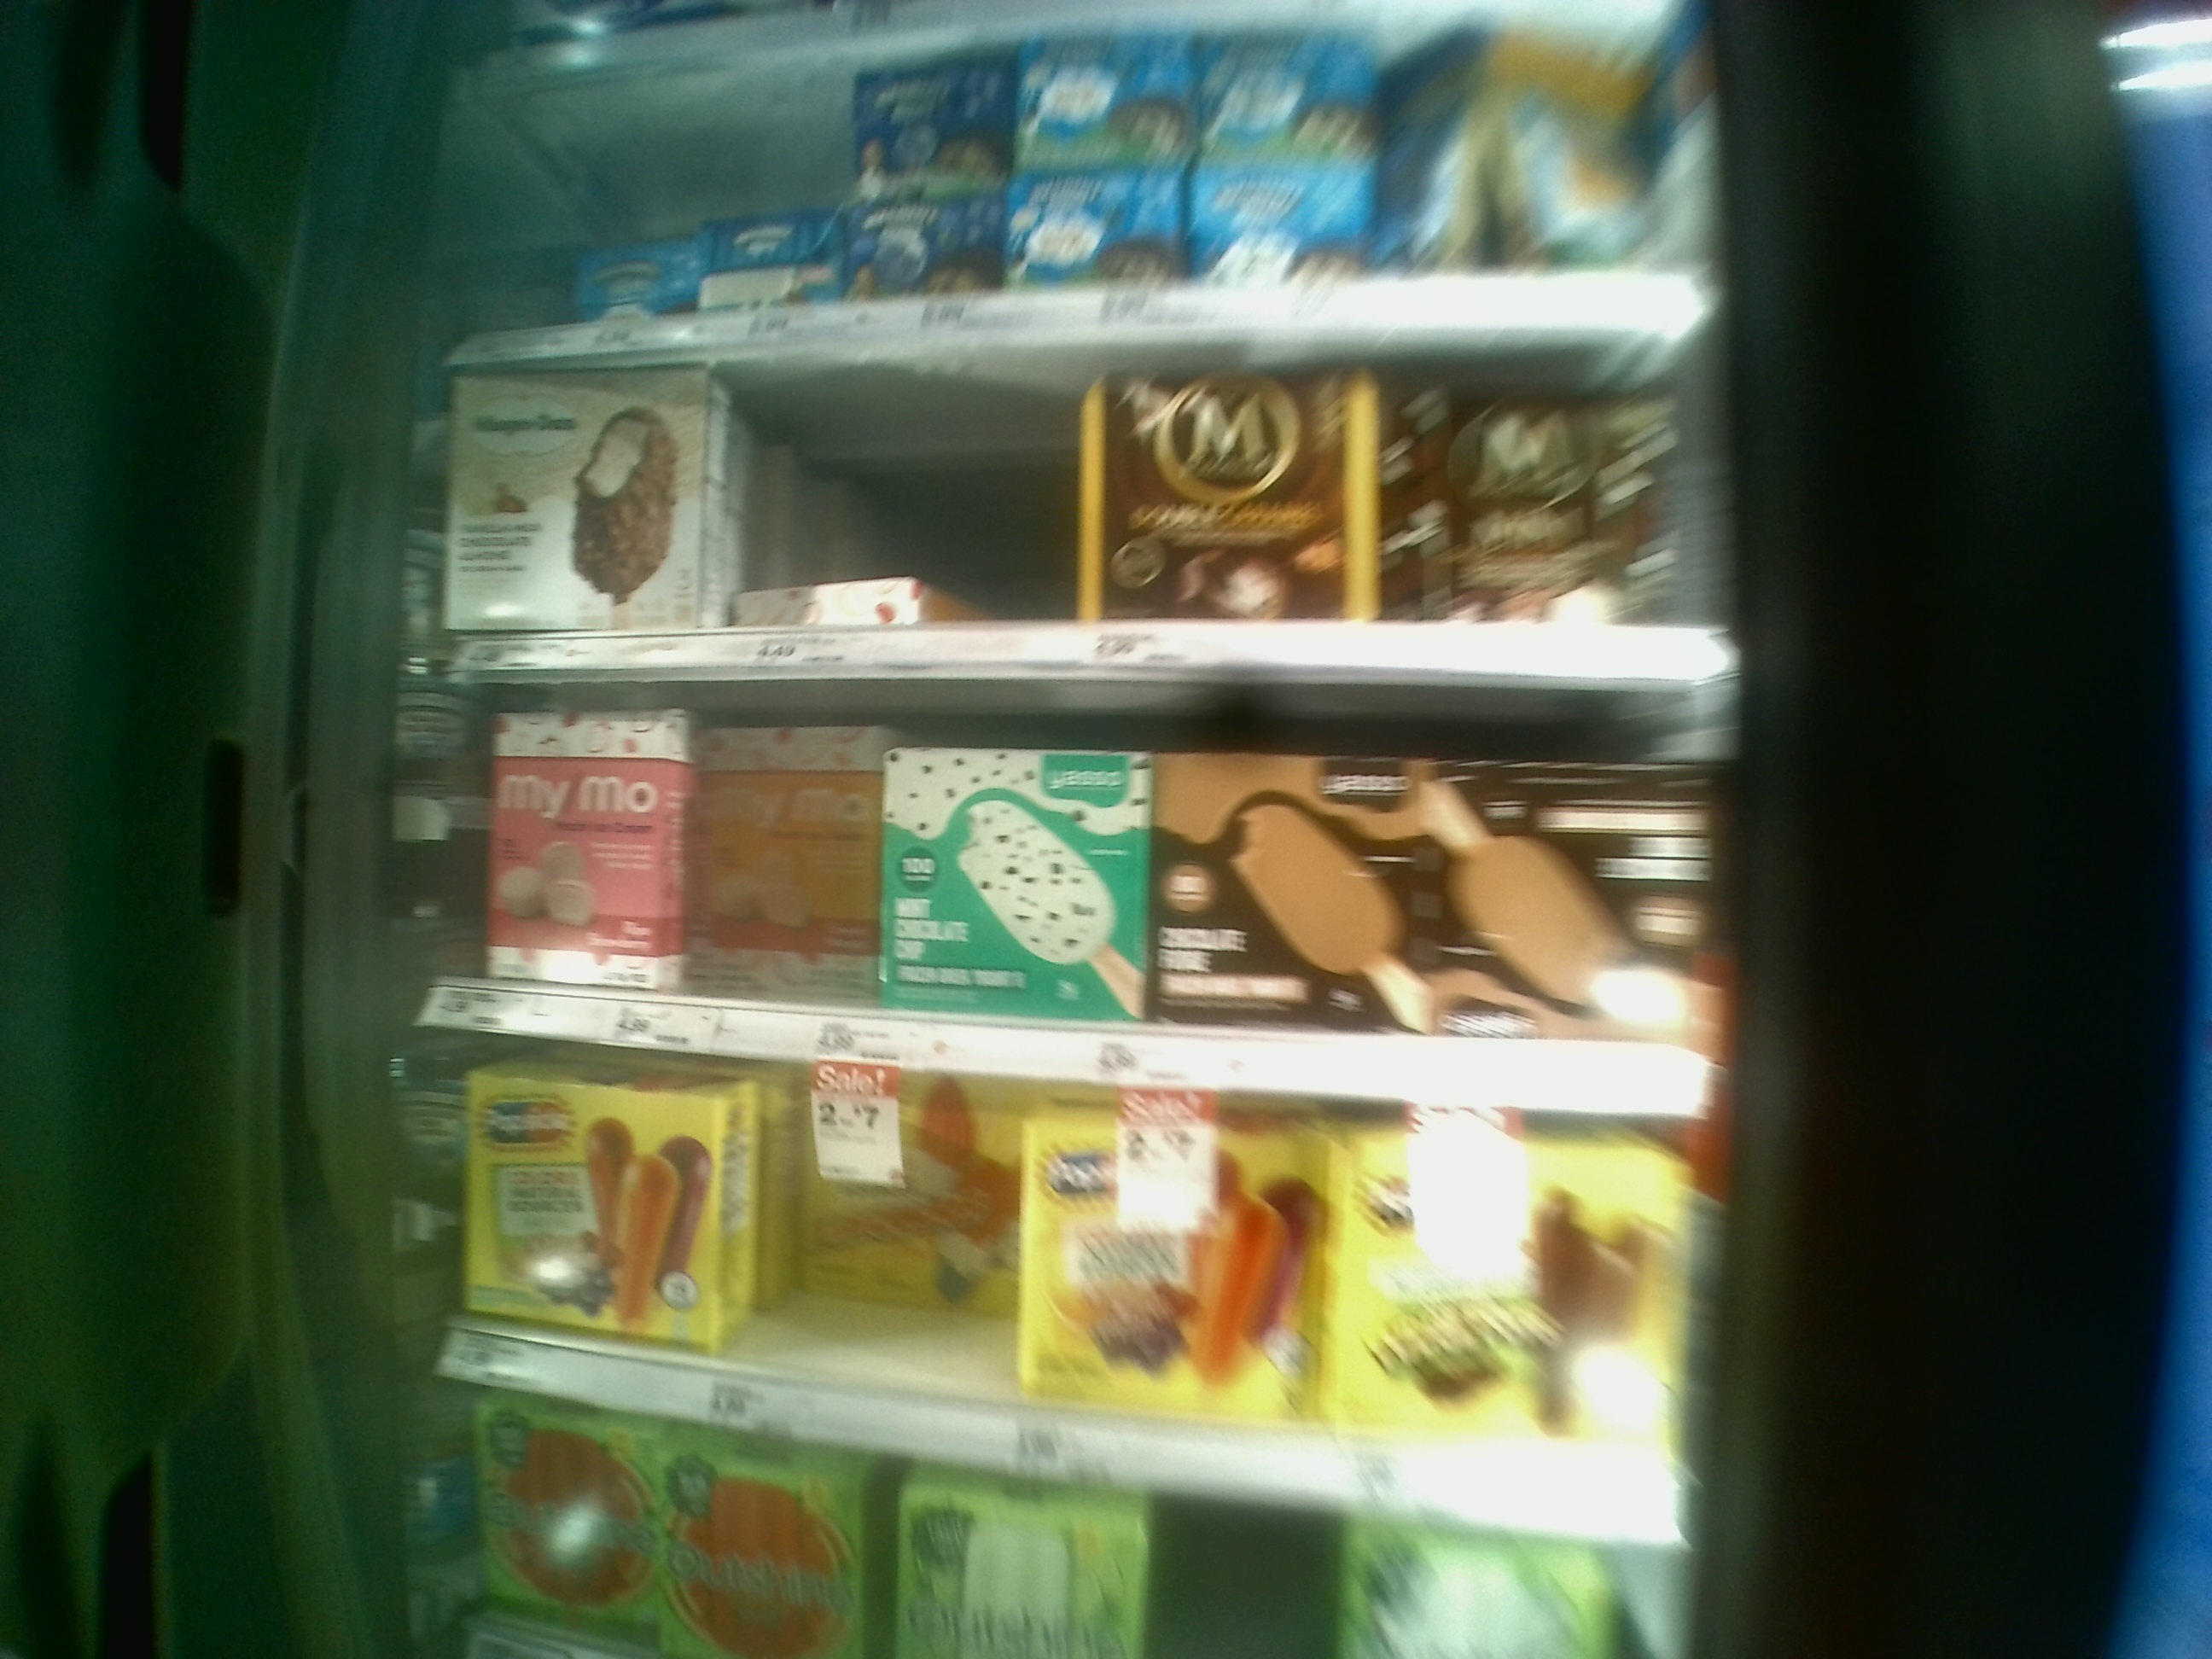shelf: (444, 673, 1714, 1108)
